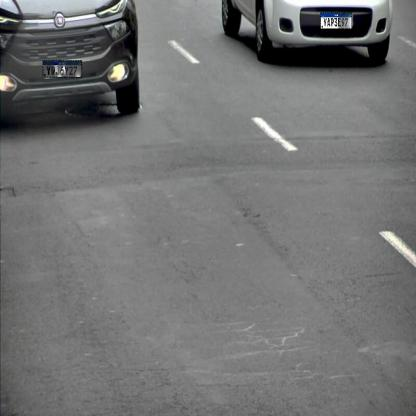PlacaM: (43, 60, 82, 78), (320, 13, 352, 29)
